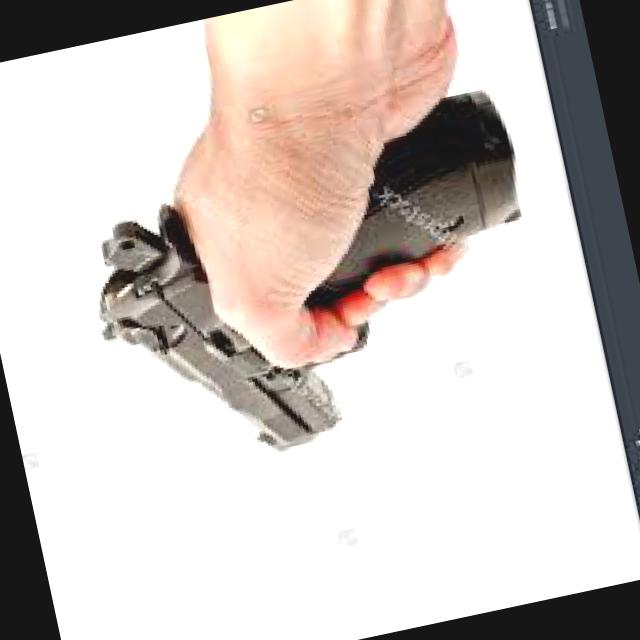handgun: (38, 80, 562, 488)
